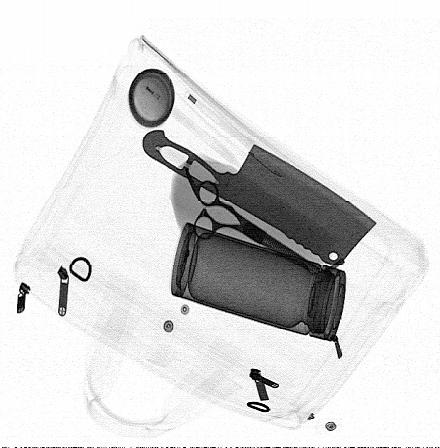Knife: (140, 128, 378, 270)
Scissors: (186, 164, 321, 276)
